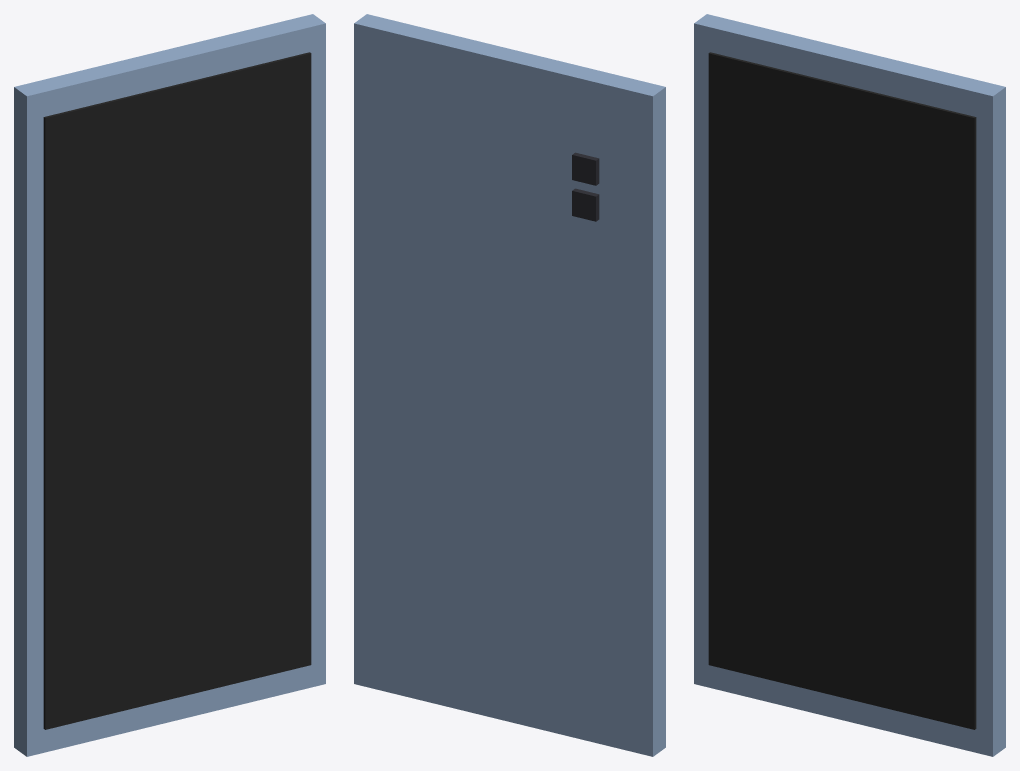
File: iphone-14.glb
3 renders of one model, left to right at view 1: azimuth 30°, elevation 25°; view 2: azimuth 150°, elevation 25°; view 3: azimuth 330°, elevation 25°, orthographic.
Parts seen in each view (by area): view 1: tela, corpo; view 2: corpo, lente-1, lente-0; view 3: tela, corpo.
Part boxes in pixels (left/top/right/bottom): tela: left=43, top=52, right=311, bottom=729; corpo: left=14, top=14, right=325, bottom=756; corpo: left=354, top=14, right=665, bottom=756; lente-1: left=572, top=188, right=599, bottom=221; lente-0: left=572, top=152, right=599, bottom=185; tela: left=708, top=52, right=976, bottom=729; corpo: left=694, top=14, right=1005, bottom=756.
Bounding box in the file's own units: 0.8714 × 1.84 × 0.091.
